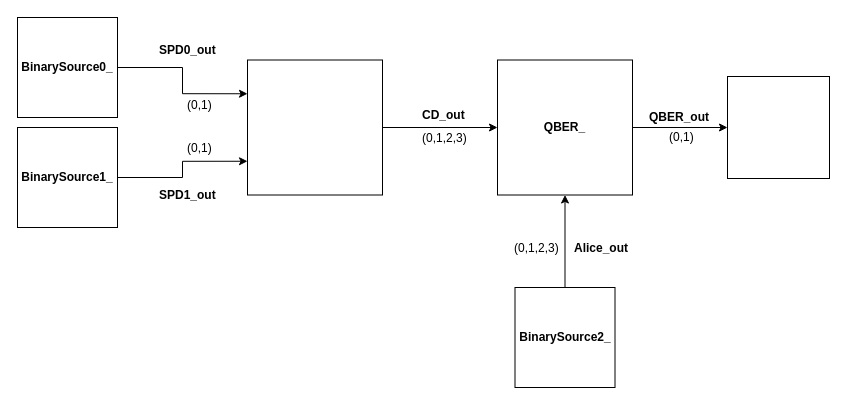
Some shapes in this 847 by 405 pixel diagram are drawn without their labels. The shapes that lost their labels are listed below. From the top down, each one's centre as x and y in pixels, then its label:
At pixel 314 127: "CoincidenceDetector_".
At pixel 778 127: "Sink_QBER_".
